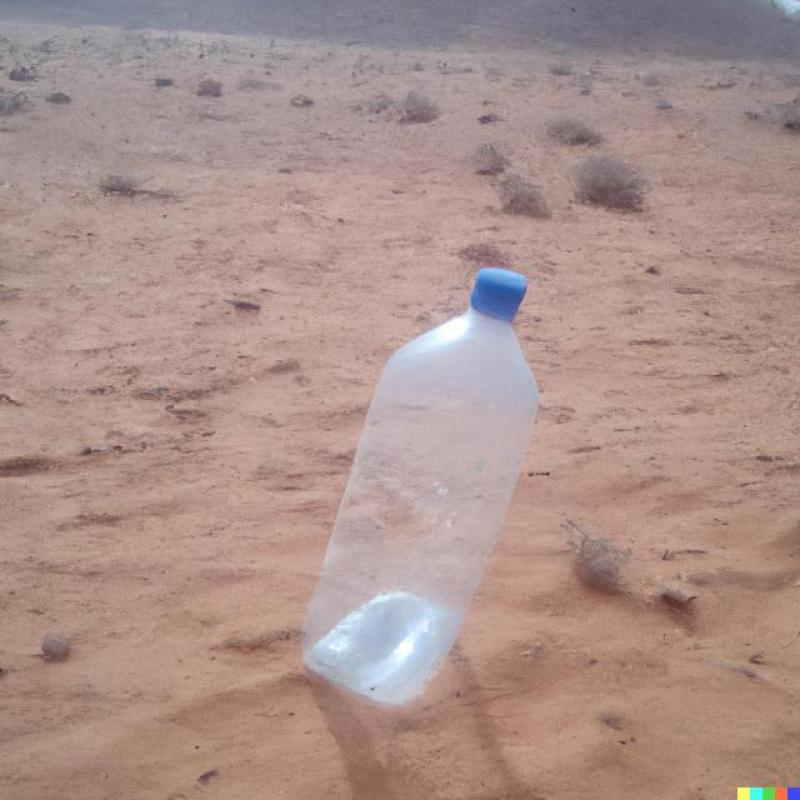botella: (306, 266, 540, 700)
